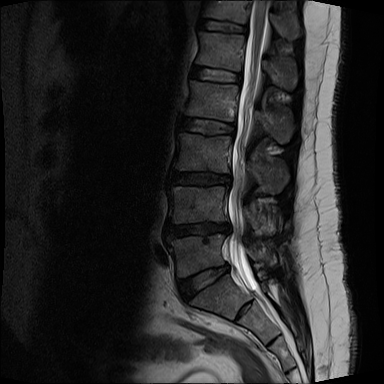Lumbar Disc Bulge (LDB): (174, 256, 238, 307), (163, 213, 235, 247), (167, 171, 238, 189)
Normal IVD: (175, 113, 240, 138), (186, 64, 245, 87), (190, 16, 251, 38)
Spinal Stenosis (SS): (220, 166, 235, 190), (219, 218, 234, 239), (220, 258, 233, 279)
